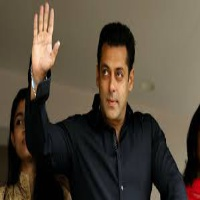ring: (38, 3, 45, 39)
